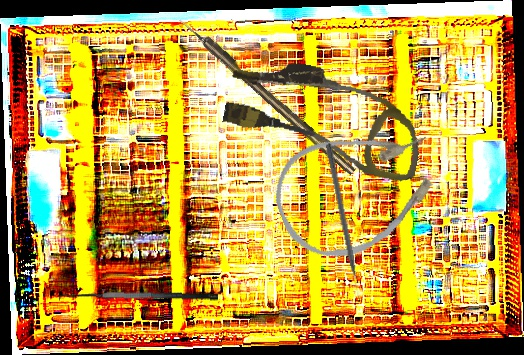Cannula: (261, 107, 456, 274), (217, 50, 432, 185)
Hook Surgical: (177, 13, 357, 178)
Pusher: (323, 142, 363, 302)
Spatula Surgical: (58, 287, 219, 314)
